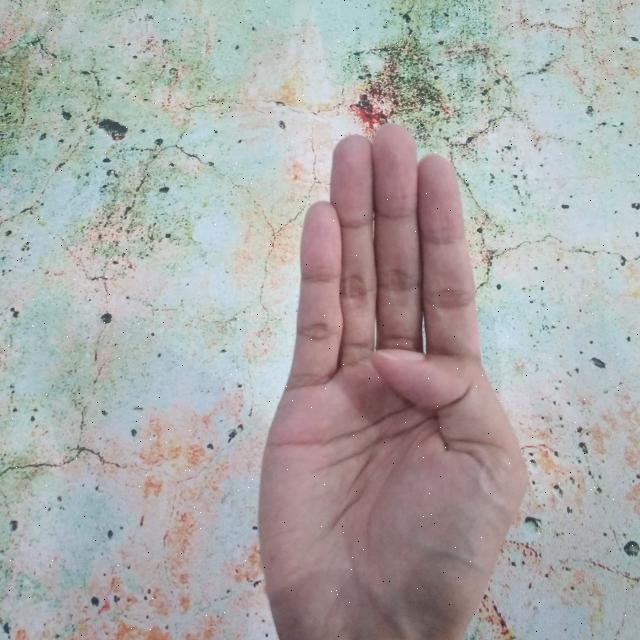B: (257, 119, 530, 640)
